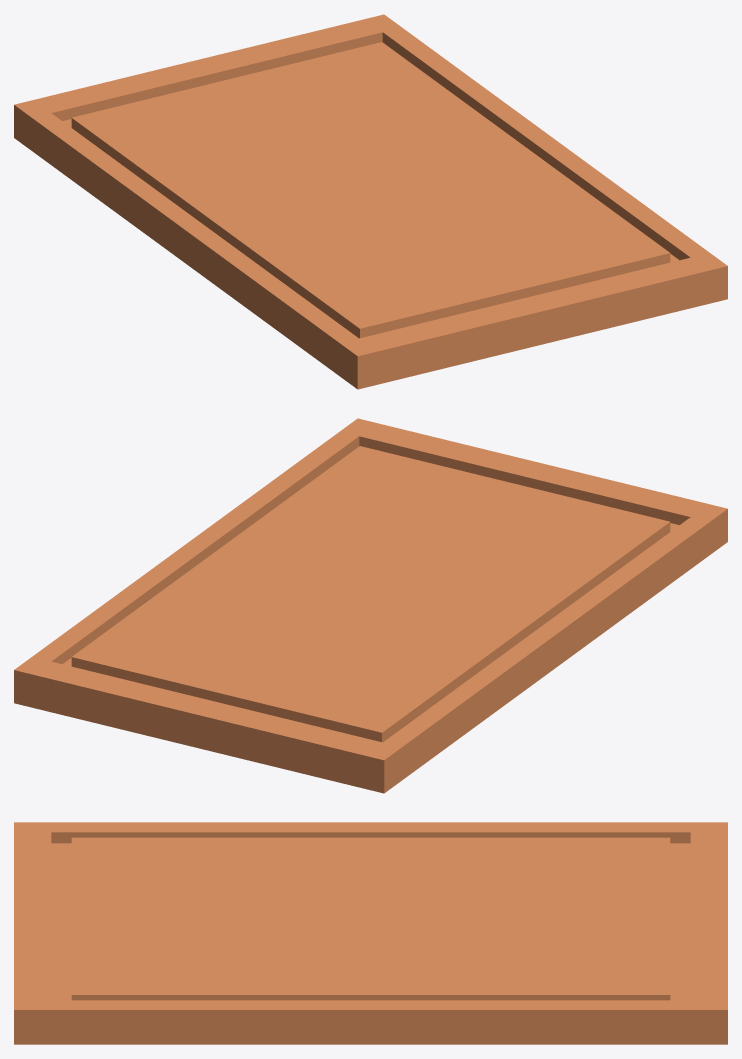
Rendered from Board2.fbx.
3 views of the same model, one above another, from view 1: azimuth 30°, elevation 25°; view 2: azimuth 150°, elevation 25°; view 3: azimuth 270°, elevation 25° (orthographic). The views are drawn at different scales.
Visible parts, largest first — view 1: Cube.016; view 2: Cube.016; view 3: Cube.016.
Boxes of the visible parts, <box> form: Cube.016: <box>14,14,727,389</box>; Cube.016: <box>14,418,727,793</box>; Cube.016: <box>14,822,727,1044</box>.
Size of the model in its own units: 60.62 by 5.2 by 97.51.
